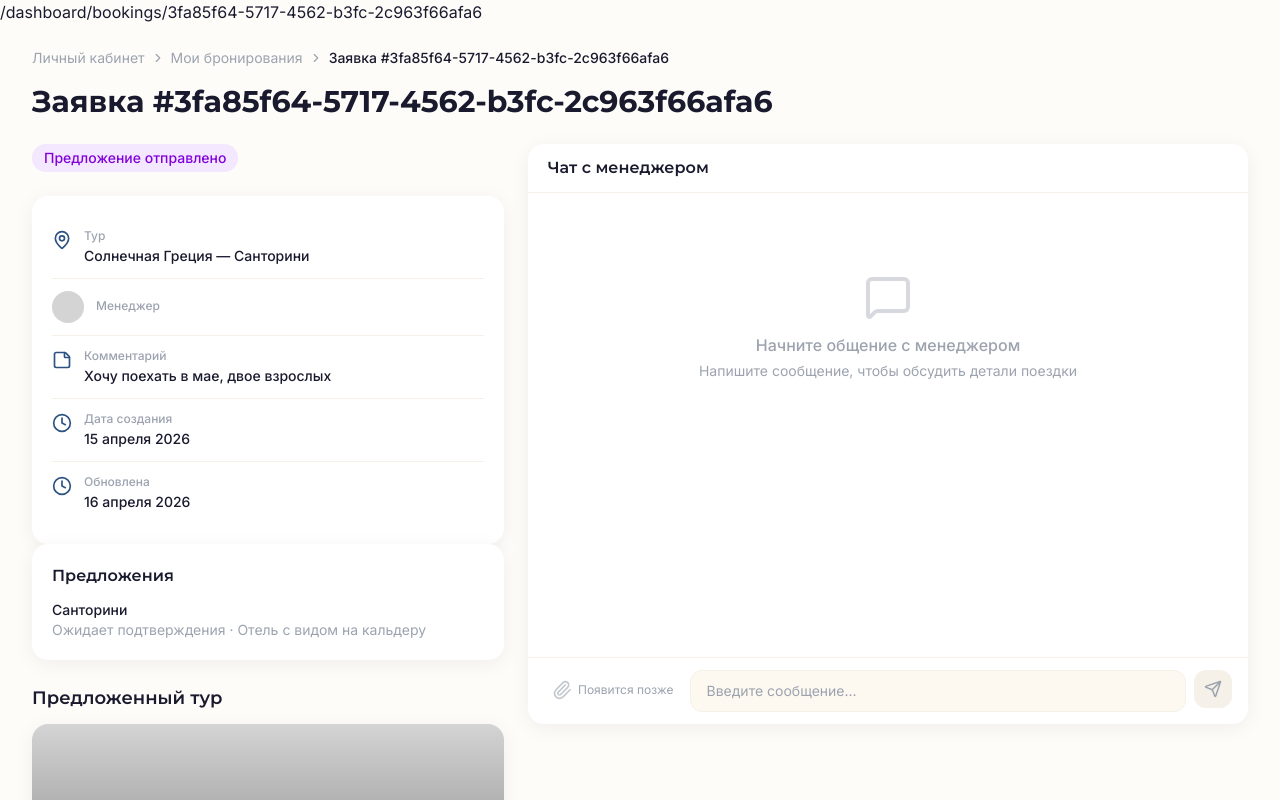
Scenario: manager row on booking pages › без имени в заявке строка остаётся, имя берётся из карточки
expect the text "Марина Иванова" is not shown: met
Click the button "Менеджер" at (68, 307), box [52, 279, 484, 336]
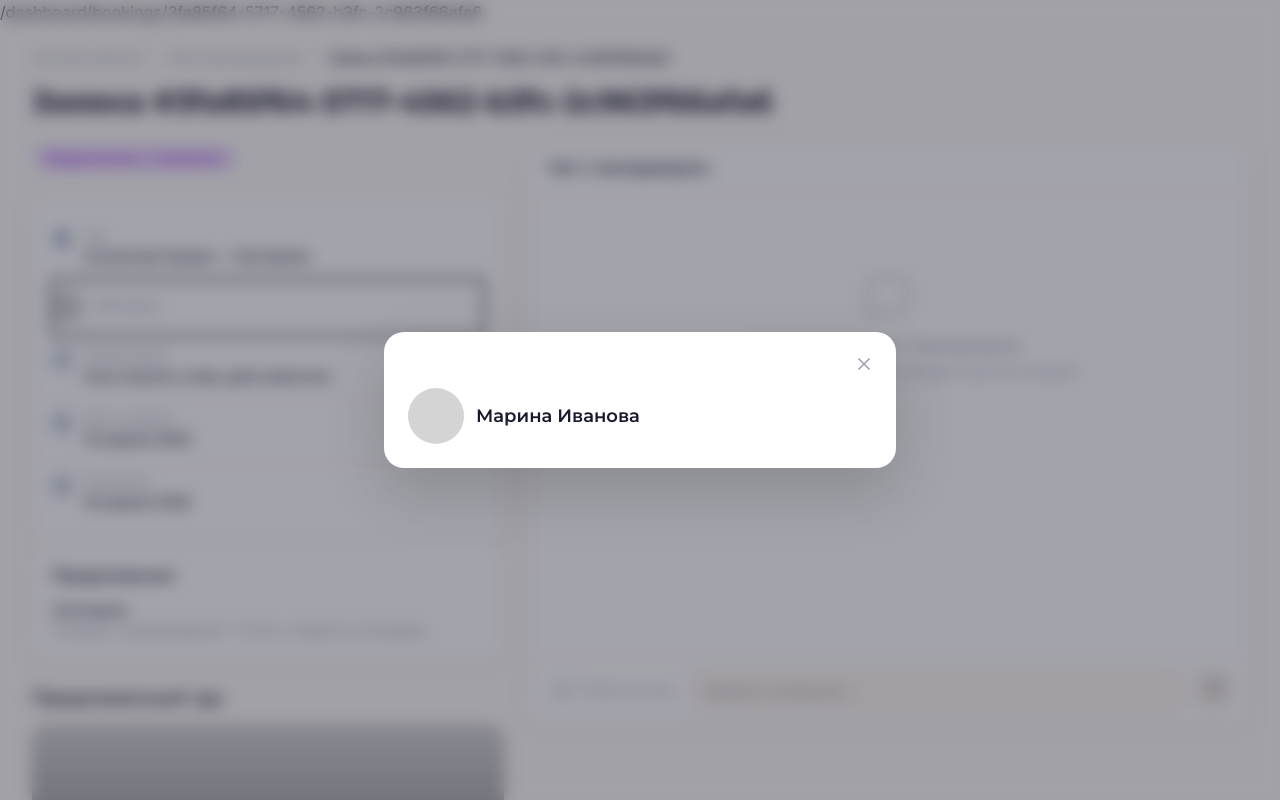
expect the text "Марина Иванова" is shown: met, box [476, 402, 640, 430]
